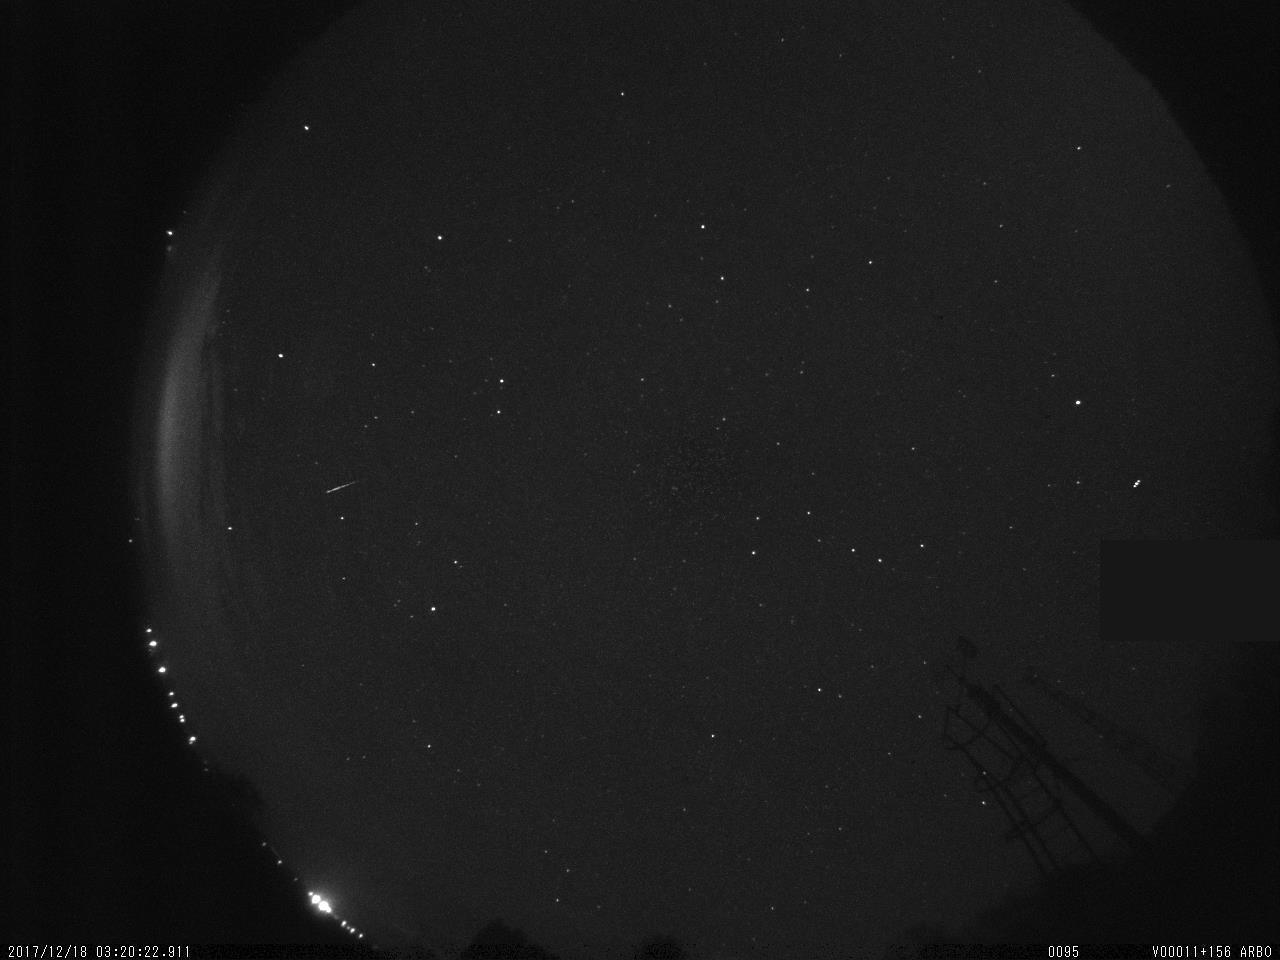Meteor: (319, 472, 368, 501)
